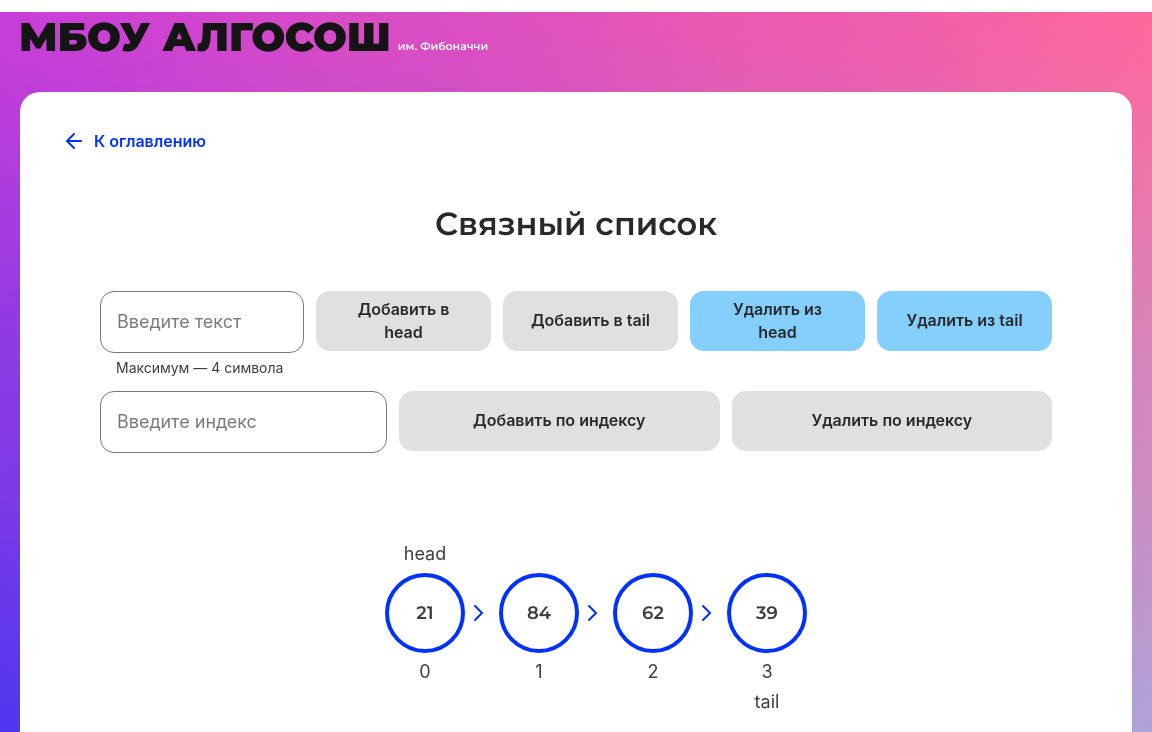
визуализация алгоритма › удаление элемента из head
Click the button with test id "remove" showing "Удалить из head". click: point(778, 321)
box: [690, 291, 865, 351]
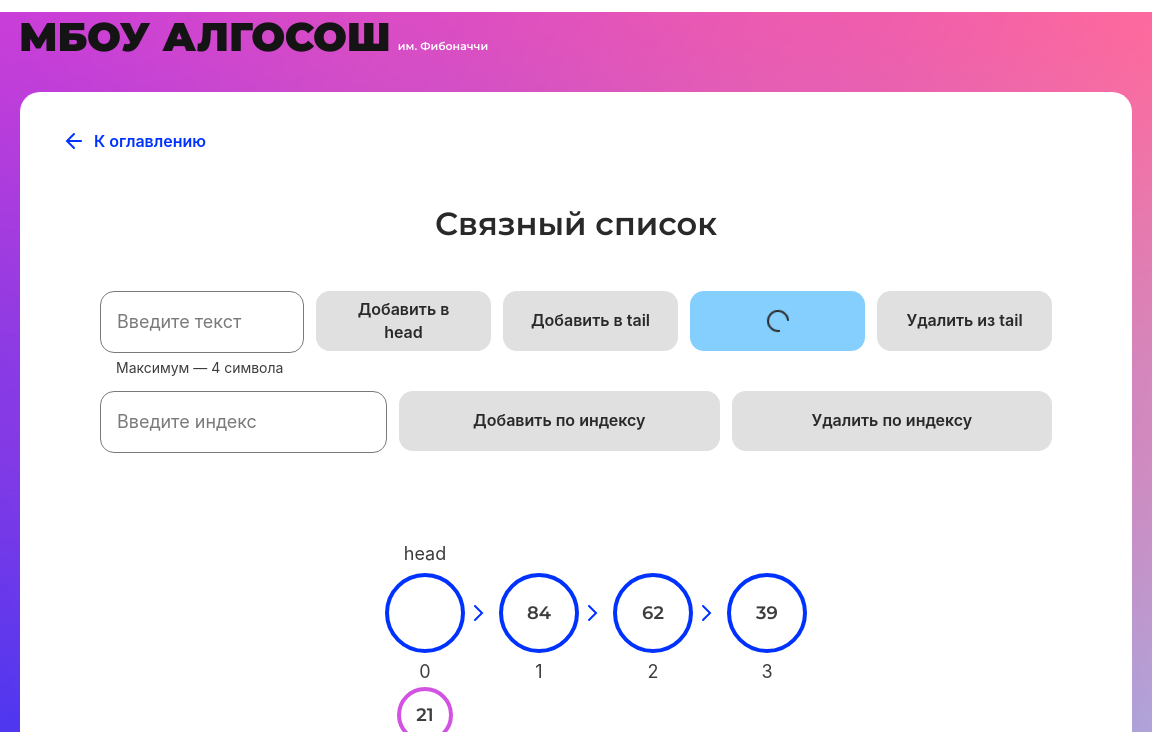
Wait "500"
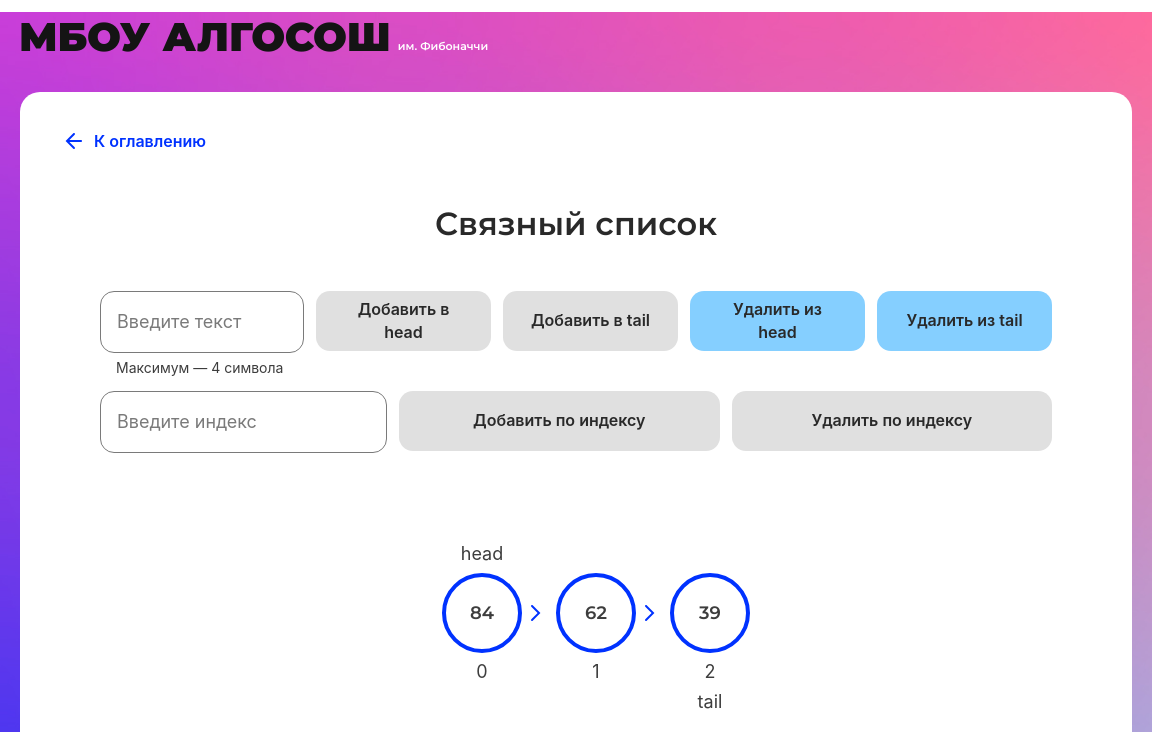
Expected: the text "head" is shown, [461, 543, 503, 565]
Expected: the number of elements with test id "circle" is 3, [442, 573, 522, 653]; [556, 573, 636, 653]; [670, 573, 750, 653]
Expected: the text "tail" is shown, [698, 691, 722, 713]
